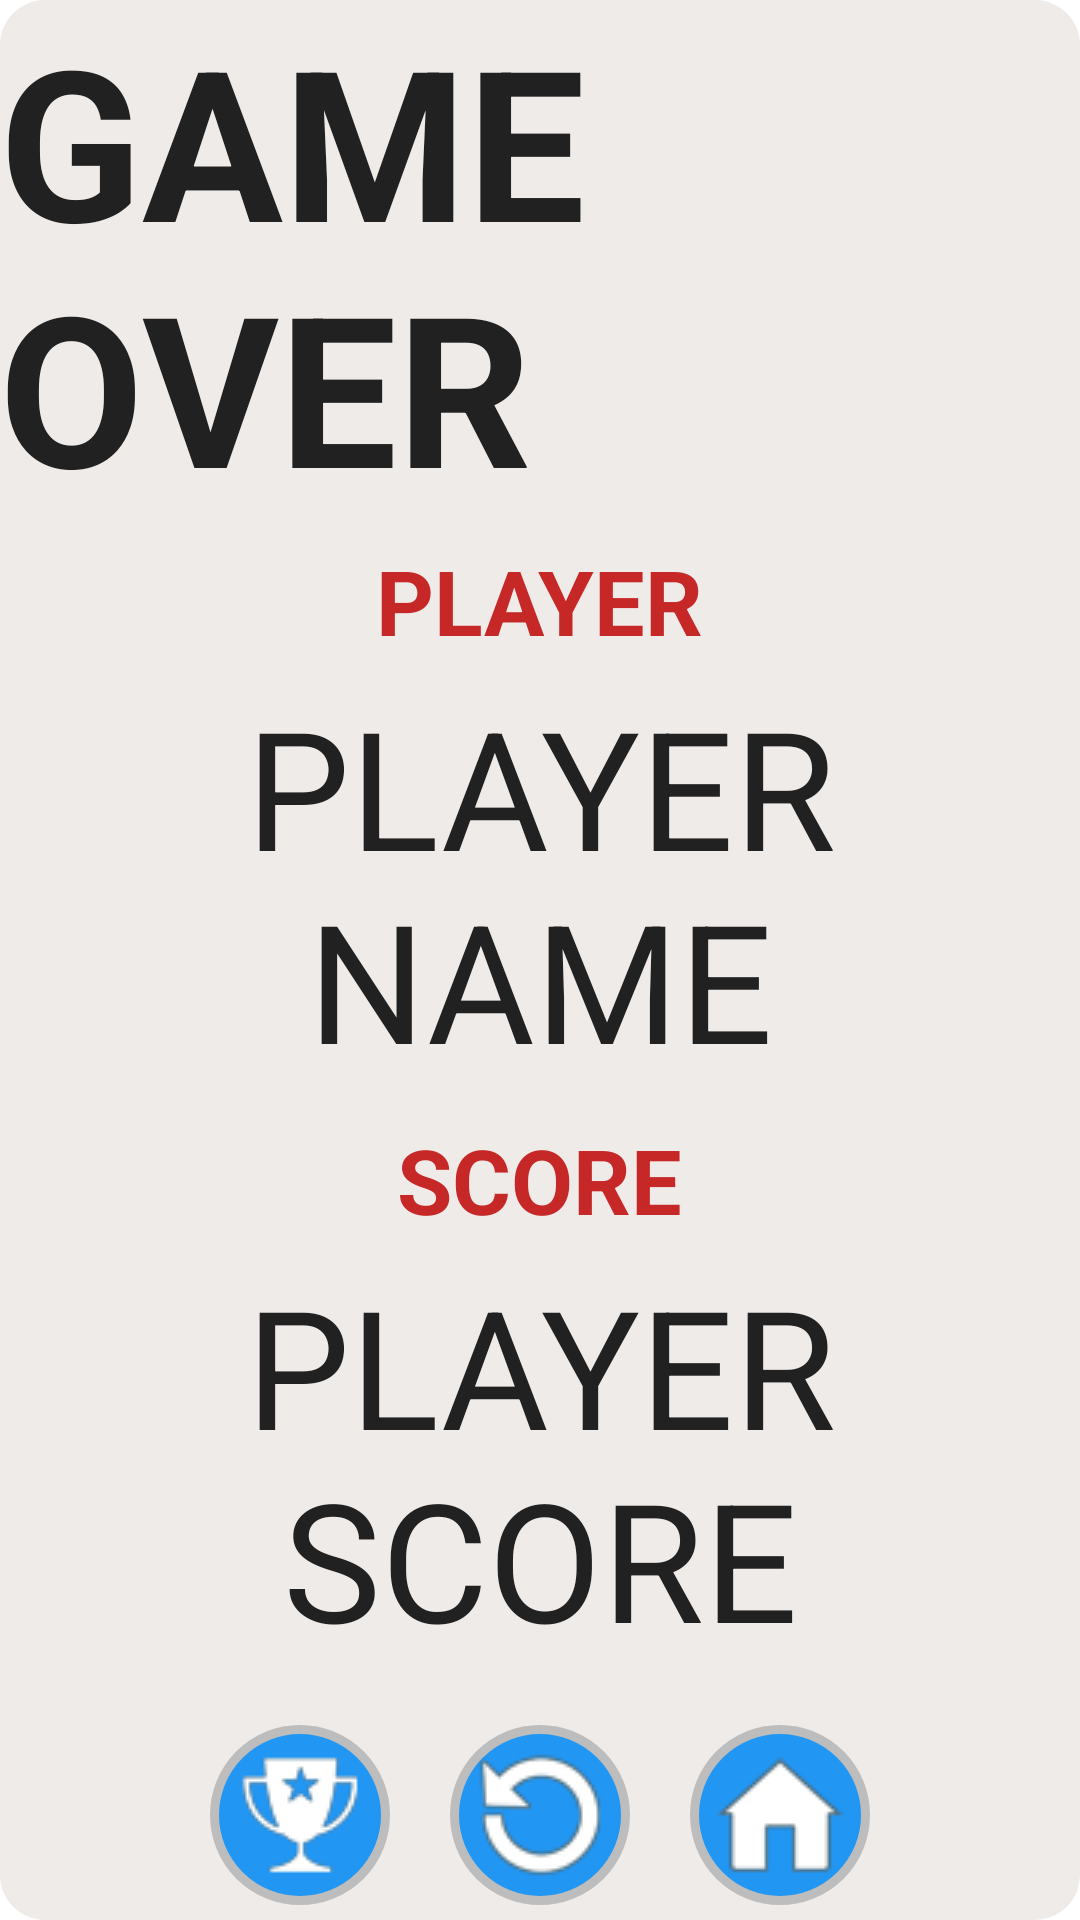

Icons on this 1080px×1920px Android screen, each with the point to tap as point (x, y):
again: point (540, 1815)
home: point (780, 1815)
leaderboard: point (300, 1815)
